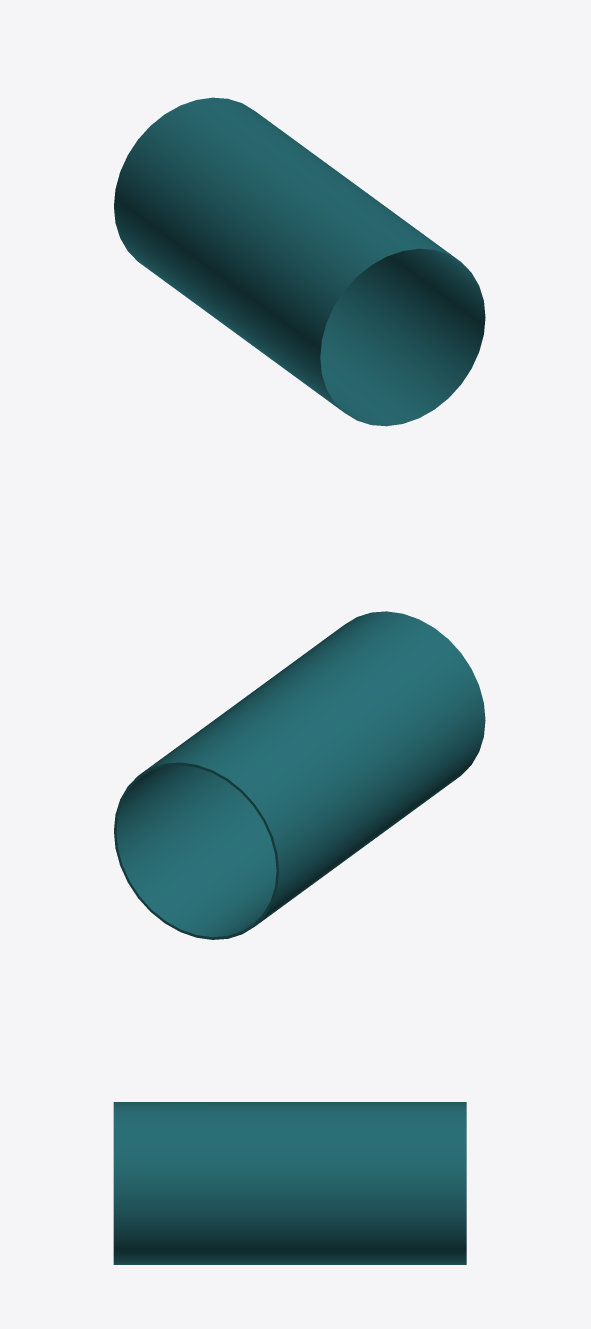
The model's file is doom_low.fbx.
3 renders of one model, top to bottom at view 1: azimuth 30°, elevation 25°; view 2: azimuth 150°, elevation 25°; view 3: azimuth 270°, elevation 25°, orthographic. The views are drawn at different scales.
Parts seen in each view (by area): view 1: glass_low.001; view 2: glass_low.001; view 3: glass_low.001.
Part boxes in pixels (x1=…): glass_low.001: x1=114, y1=97, x2=485, y2=426; glass_low.001: x1=114, y1=611, x2=485, y2=939; glass_low.001: x1=113, y1=1102, x2=466, y2=1264.
Size of the model in its own units: 203 by 204 by 491.
